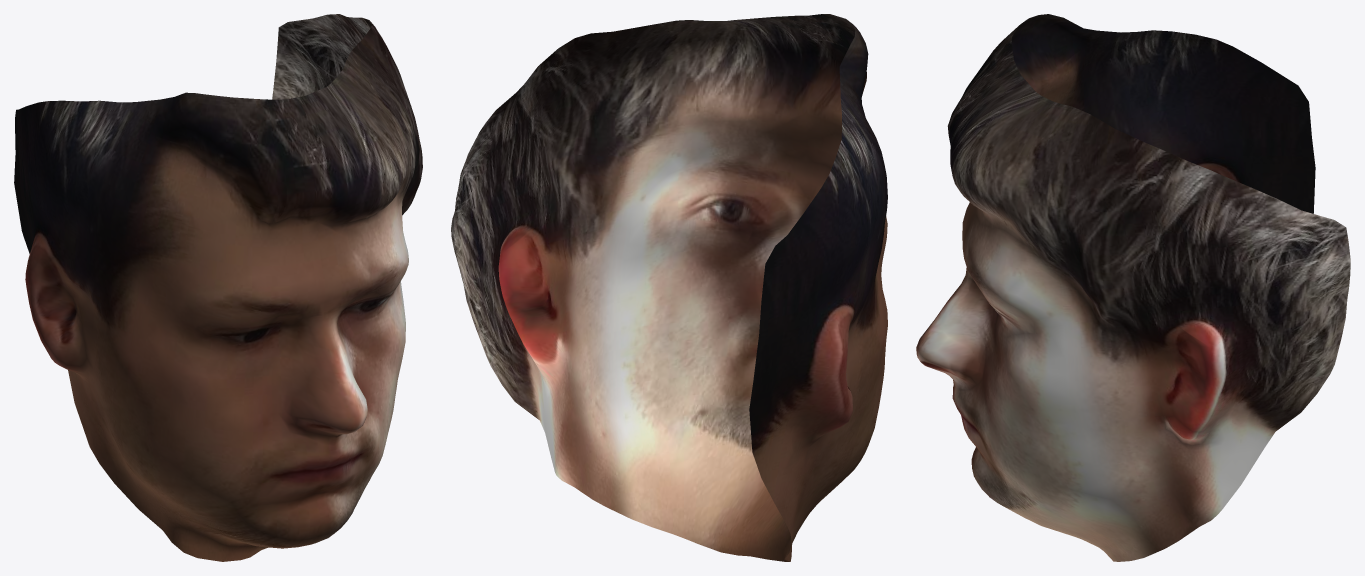
Rendered from headScanLow.glb.
3 views of the same model, side by side, from view 1: azimuth 30°, elevation 25°; view 2: azimuth 150°, elevation 25°; view 3: azimuth 270°, elevation 25° (orthographic). The views are drawn at different scales.
Parts seen in each view (by area): view 1: Node; view 2: Node; view 3: Node.
Boxes of the visible parts, x1=… form: Node: x1=14, y1=14, x2=422, y2=561; Node: x1=451, y1=14, x2=887, y2=561; Node: x1=916, y1=14, x2=1350, y2=561.
Size of the model in its own units: 183 by 259 by 206.
1 material, 1 textured.
